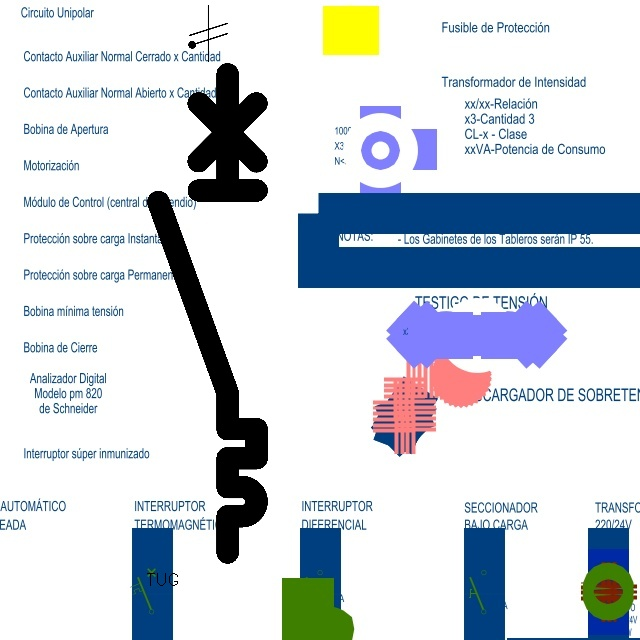interruptor_termomagnetico: (146, 61, 269, 564)
